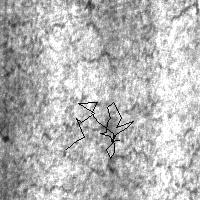crazing: (1, 105, 198, 194), (1, 20, 152, 76), (66, 102, 133, 158)
